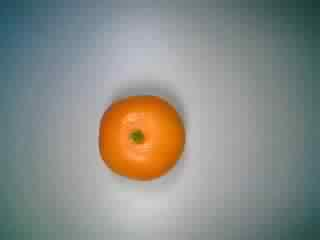orange: (92, 85, 187, 187)
